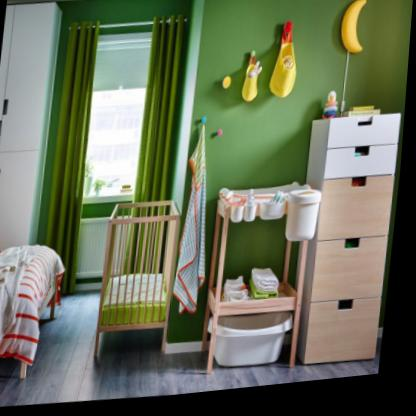Bed: (0, 235, 68, 386)
